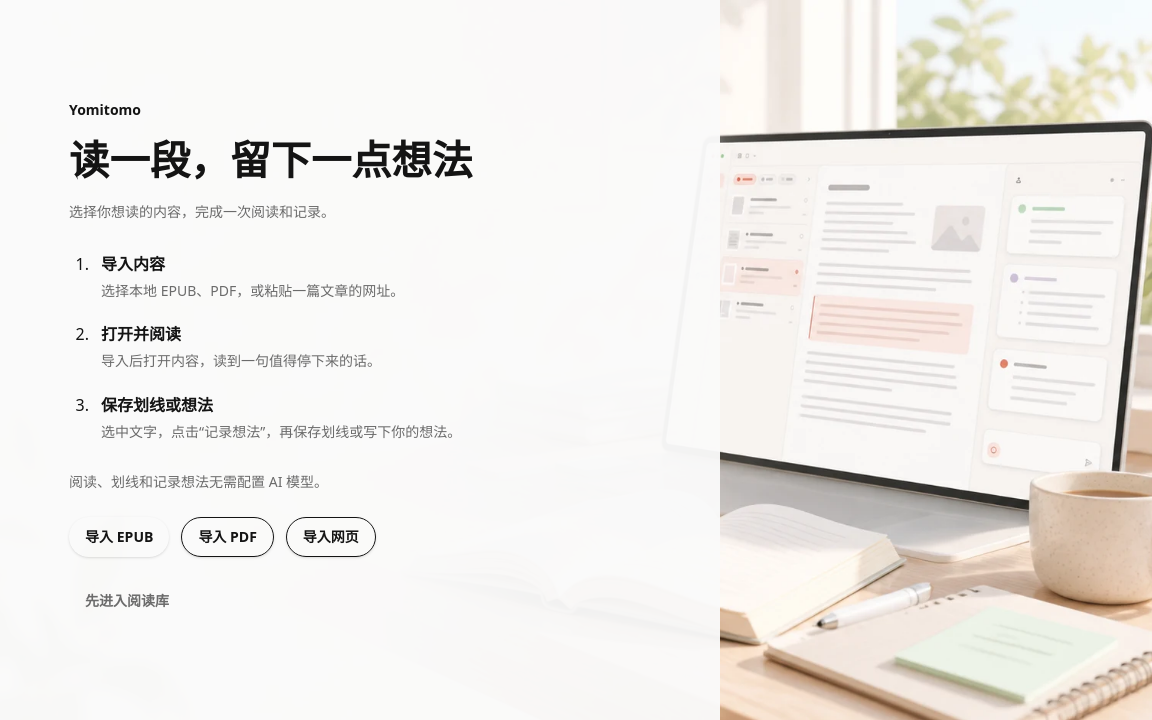
it: OnboardingFlow › keeps the task choices available when saving fails
Click the button "导入 EPUB" at (119, 537), box [69, 517, 169, 557]
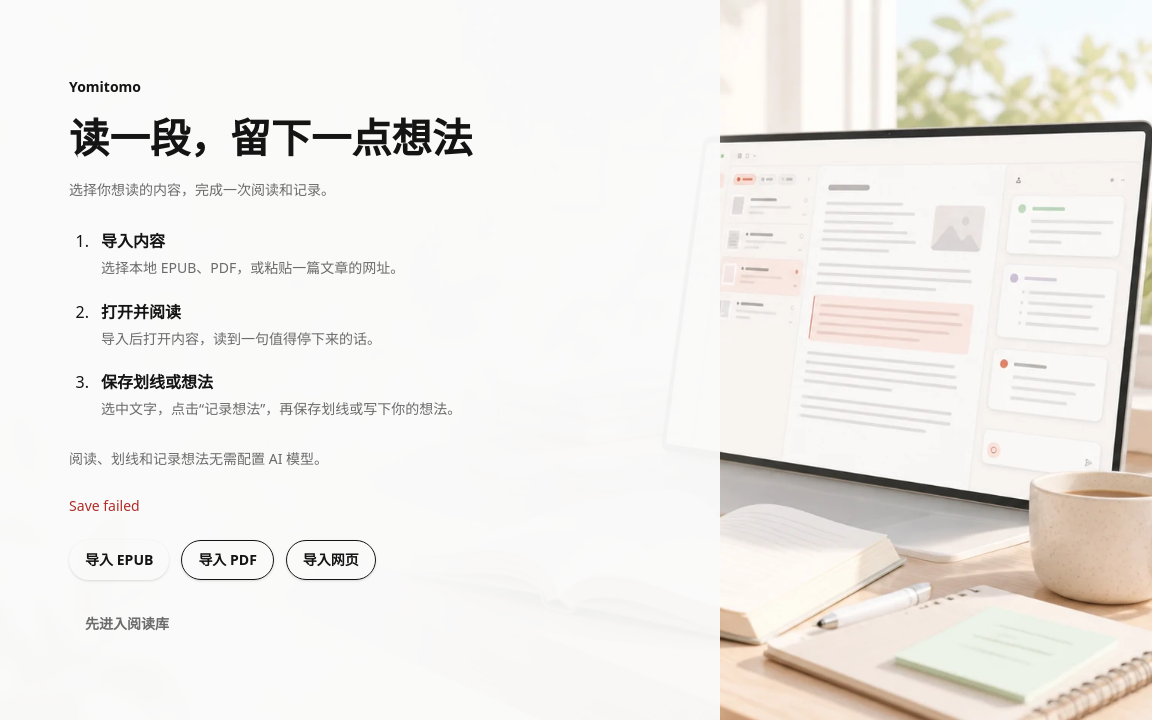
Expected: the button "导入 EPUB" is enabled, [69, 540, 169, 580]
Expected: the message reads "Save failed", [69, 496, 140, 515]
